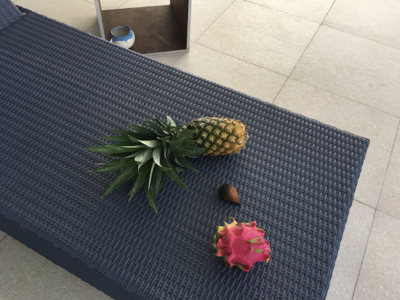dragon fruit: (212, 217, 271, 269)
pineapple: (92, 115, 248, 198)
snake fruit: (217, 185, 243, 209)
